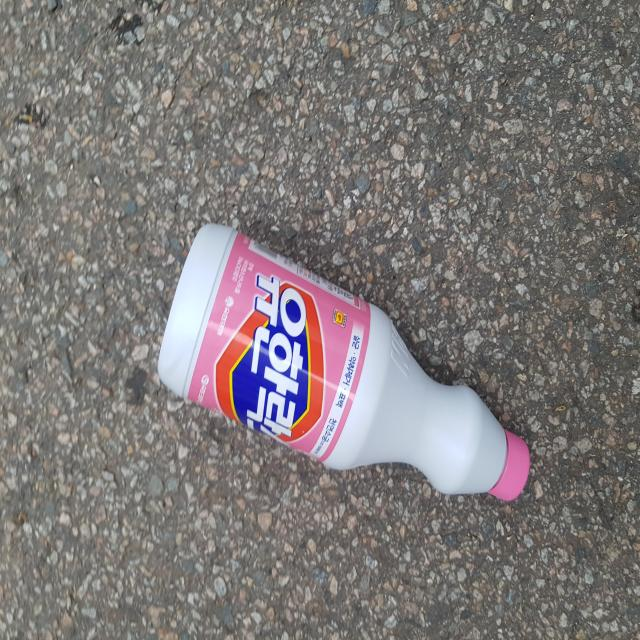bottle: (157, 225, 538, 511)
